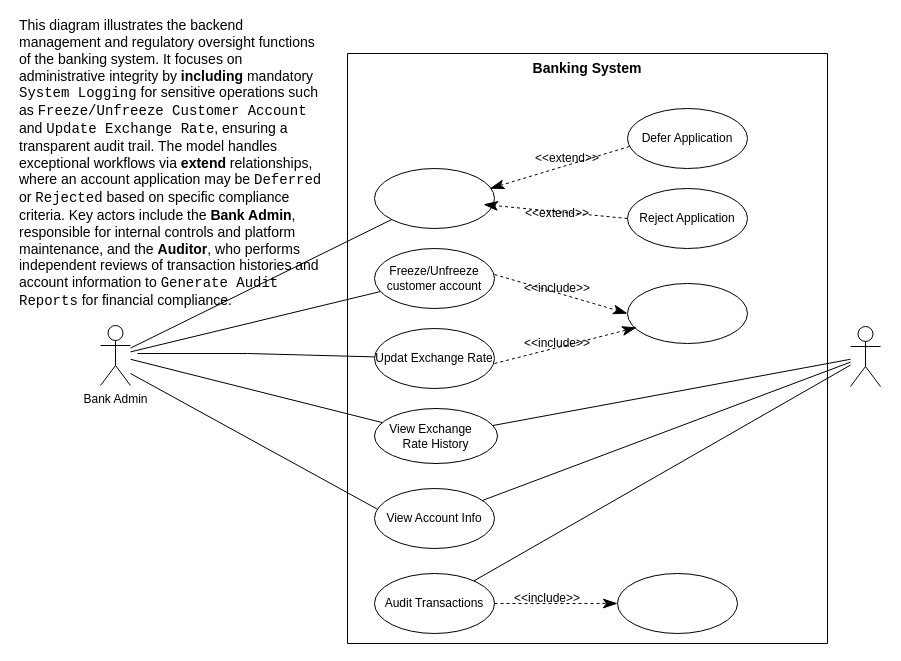
The diagram is 901 pixels wide and 661 high, and some of its shapes have lost their labels. The centre of each missing label's shape, as x and y in pixels:
Approve New Account Application: [434,198]
Auditor: [865,356]
Generate Audit Report: [677,603]
System Logging: [687,313]
